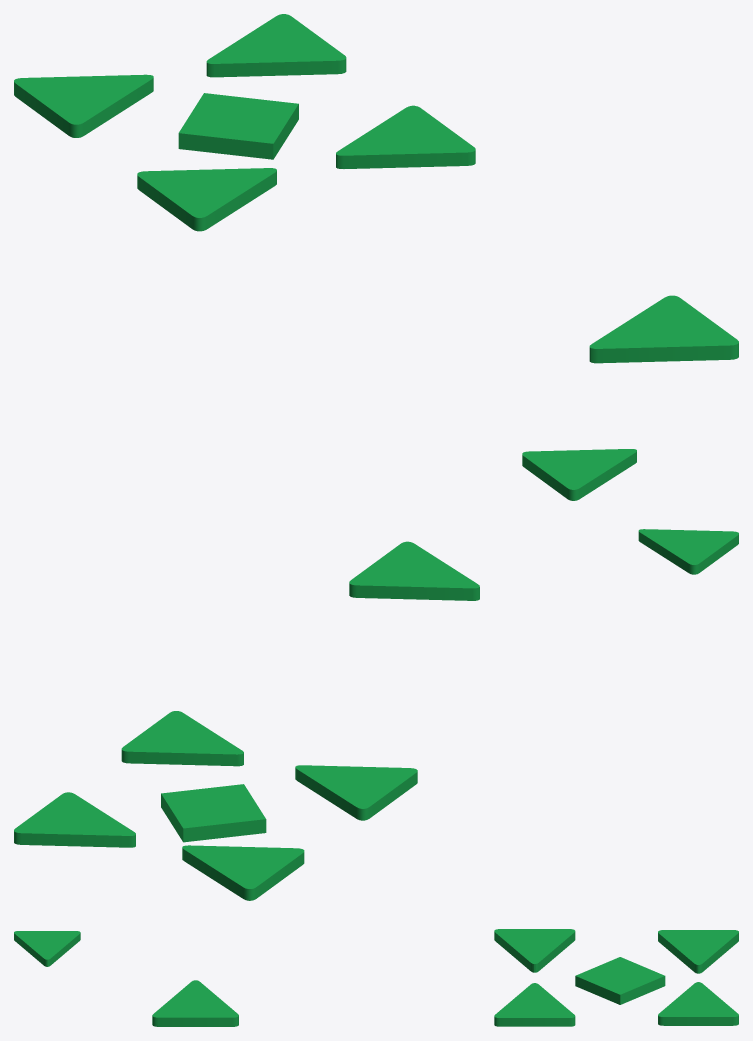
Rendered from Level_1_Engeller.fbx.
3 views of the same model, one above another, from view 1: azimuth 30°, elevation 25°; view 2: azimuth 150°, elevation 25°; view 3: azimuth 270°, elevation 25° (orthographic). The views are drawn at different scales.
Parts seen in each view (by area): view 1: Cube.003, Cube.008, Cube.007, Cube.014, Cube.006, Cube.013, Cube; view 2: Cube.003, Cube.008, Cube.014, Cube.013, Cube.006, Cube.007, Cube; view 3: Cube.008, Cube.003, Cube.006, Cube.007, Cube.014, Cube.013, Cube.
Boxes of the visible parts, x1=… form: Cube.003: x1=589, y1=295, x2=738, y2=363; Cube.008: x1=178, y1=93, x2=298, y2=159; Cube.007: x1=206, y1=14, x2=346, y2=77; Cube.014: x1=137, y1=168, x2=276, y2=231; Cube.006: x1=336, y1=105, x2=475, y2=168; Cube.013: x1=14, y1=74, x2=153, y2=137; Cube: x1=522, y1=449, x2=636, y2=500; Cube.003: x1=349, y1=541, x2=479, y2=600; Cube.008: x1=161, y1=784, x2=266, y2=842; Cube.014: x1=295, y1=765, x2=417, y2=820; Cube.013: x1=182, y1=845, x2=304, y2=900; Cube.006: x1=121, y1=711, x2=243, y2=766; Cube.007: x1=14, y1=792, x2=135, y2=847; Cube: x1=638, y1=529, x2=738, y2=574; Cube.008: x1=575, y1=957, x2=665, y2=1004; Cube.003: x1=152, y1=980, x2=238, y2=1026; Cube.006: x1=494, y1=983, x2=575, y2=1026; Cube.007: x1=658, y1=982, x2=738, y2=1025; Cube.014: x1=494, y1=929, x2=575, y2=972; Cube.013: x1=658, y1=930, x2=738, y2=973; Cube: x1=14, y1=931, x2=80, y2=966.
Bounding box in the file's own units: 662 × 46.62 × 2279.
